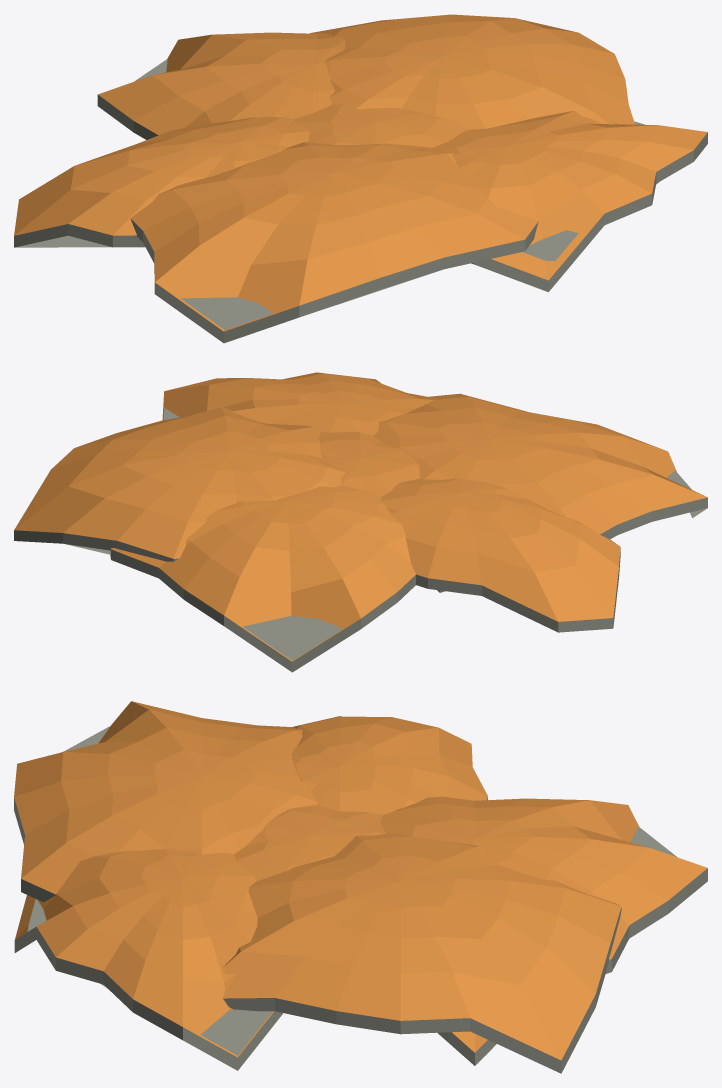
File: LAVA_EDGE_LICHEN.hi.glb
The picture shows the model from 3 angles, top to bottom: view 1: azimuth 30°, elevation 25°; view 2: azimuth 150°, elevation 25°; view 3: azimuth 270°, elevation 25°; orthographic projection. The views are drawn at different scales.
Visible parts, largest first — view 1: LAVA_EDGE_LICHEN; view 2: LAVA_EDGE_LICHEN; view 3: LAVA_EDGE_LICHEN.
Boxes of the visible parts, x1,y1,x2,y2 form: LAVA_EDGE_LICHEN: (14, 14, 707, 343); LAVA_EDGE_LICHEN: (14, 372, 707, 672); LAVA_EDGE_LICHEN: (14, 701, 707, 1073).
Bounding box in the file's own units: 0.4782 × 0.0848 × 0.4251.
1 material, 1 textured.
